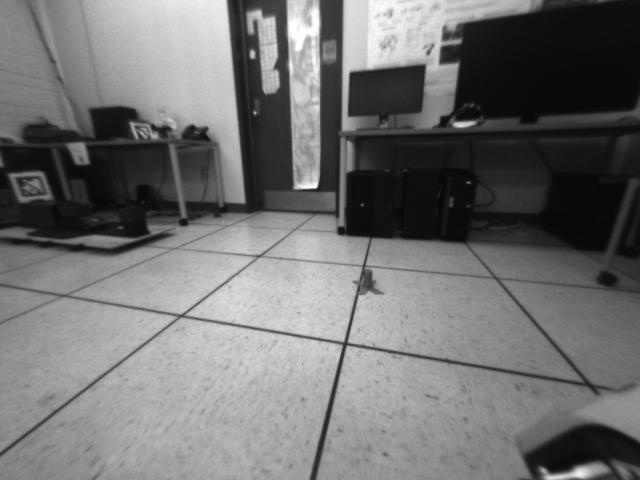X: (350, 268, 386, 296)
